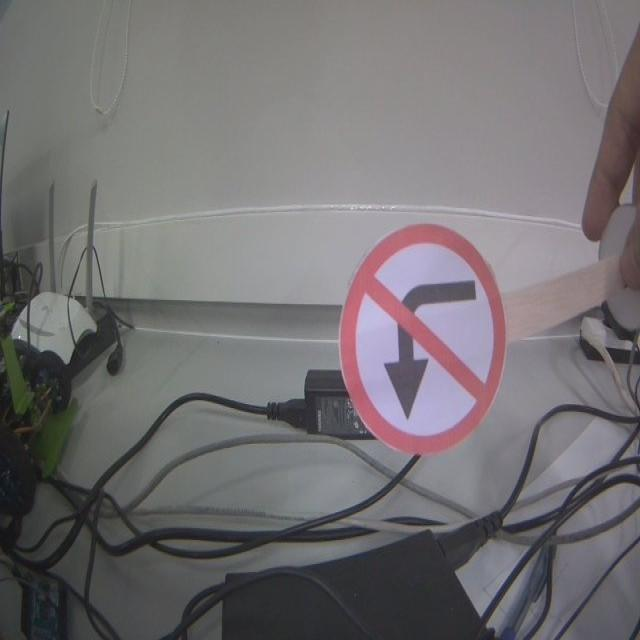Dilarang Belok Kiri: (338, 223, 507, 453)
